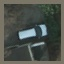car: (20, 24, 46, 42)
